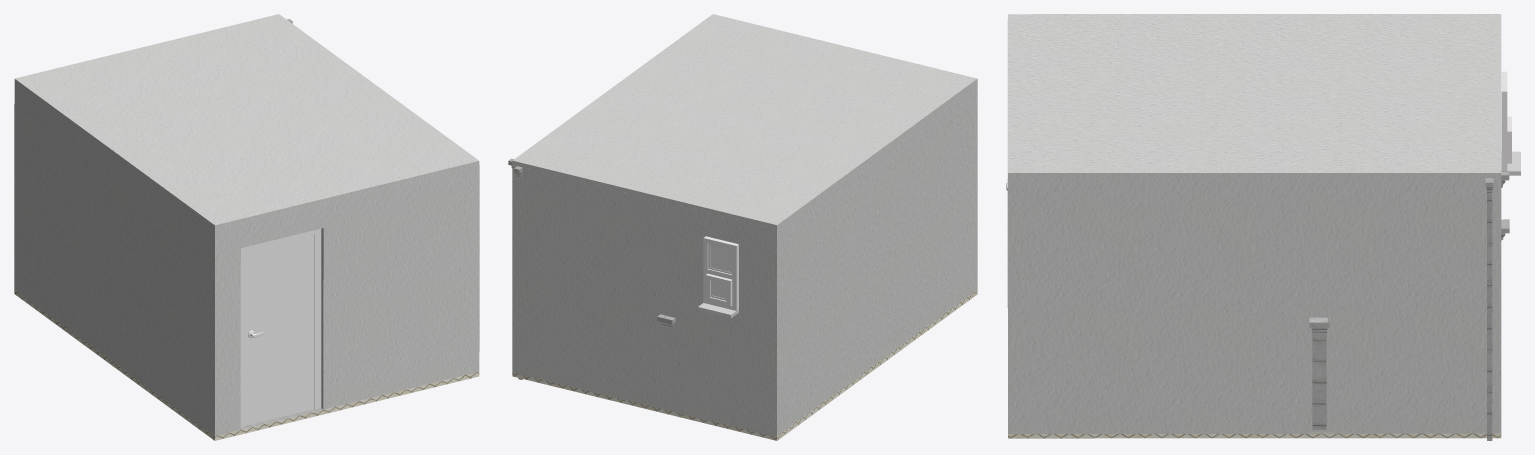
File: FloorPlan17_physics.fbx
3 views of the same model, side by side, from view 1: azimuth 30°, elevation 25°; view 2: azimuth 150°, elevation 25°; view 3: azimuth 270°, elevation 25° (orthographic). The views are drawn at different scales.
Visible parts, largest first — view 1: FP417:Walls, FP417:Ceiling, FP417:Door.013, FP417:Floor, FP417:DoorFrame.013; view 2: FP417:Walls, FP417:Ceiling, FP417:Floor, FP417:polySurface89, FP417:polySurface85; view 3: FP417:Walls, FP417:Ceiling, FP417:polySurface107, FP417:Floor, FP417:polySurface89.
Part boxes in pixels (x1,y1,x2,y2): FP417:Walls: [14, 84, 479, 436]; FP417:Ceiling: [14, 14, 479, 229]; FP417:Door.013: [245, 235, 314, 425]; FP417:Floor: [14, 289, 479, 440]; FP417:DoorFrame.013: [240, 228, 321, 427]; FP417:Walls: [512, 83, 977, 436]; FP417:Ceiling: [512, 14, 977, 229]; FP417:Floor: [512, 290, 977, 440]; FP417:polySurface89: [698, 236, 738, 318]; FP417:polySurface85: [710, 245, 731, 298]; FP417:Walls: [1007, 19, 1501, 433]; FP417:Ceiling: [1008, 14, 1501, 178]; FP417:polySurface107: [1309, 172, 1509, 440]; FP417:Floor: [1008, 432, 1501, 438]; FP417:polySurface89: [1501, 71, 1520, 175].
Bounding box in the file's own units: 330 × 251 × 438.
